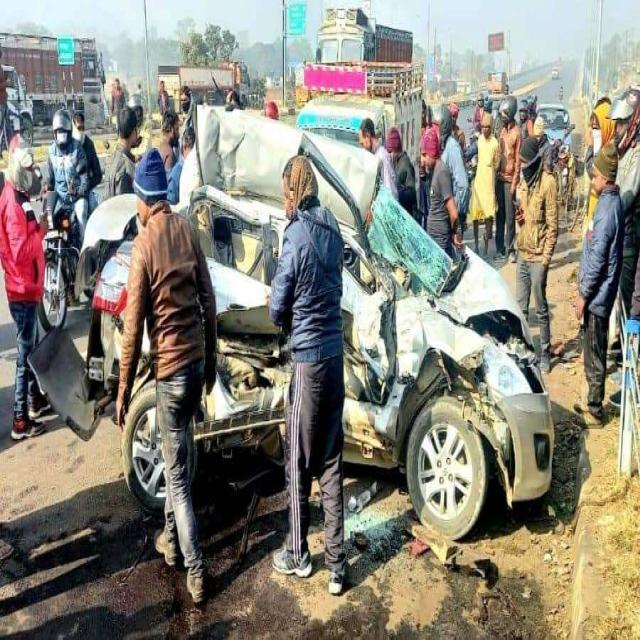accident: (182, 104, 554, 537)
